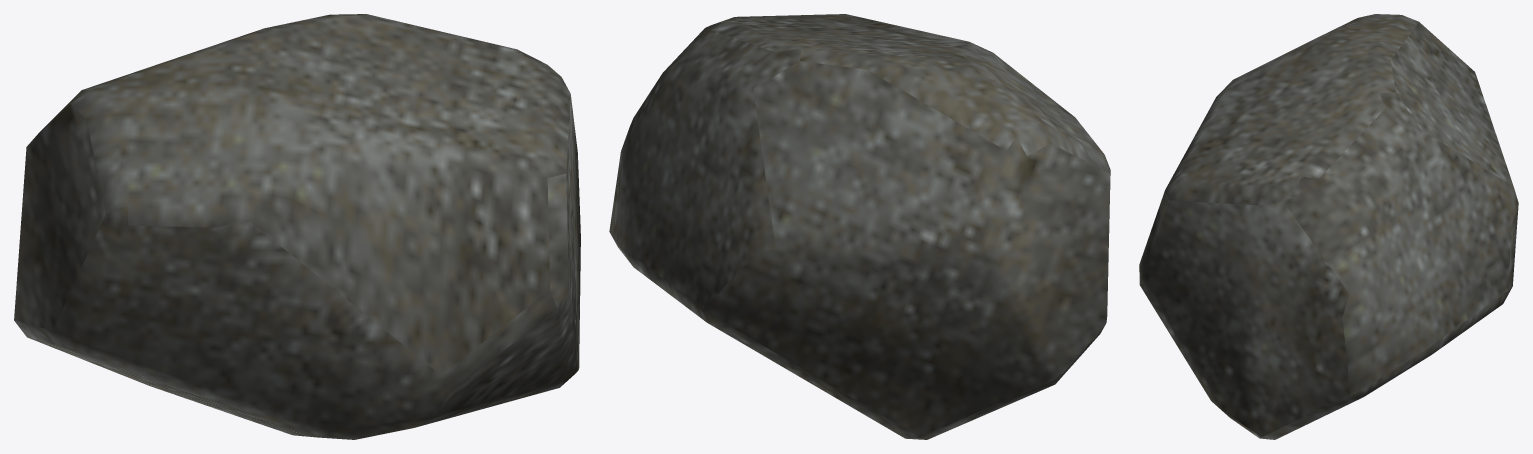
The model's file is rock3.fbx.
The picture shows the model from 3 angles, left to right: view 1: azimuth 30°, elevation 25°; view 2: azimuth 150°, elevation 25°; view 3: azimuth 270°, elevation 25°; orthographic projection. The views are drawn at different scales.
Visible parts, largest first — view 1: Sphere.001; view 2: Sphere.001; view 3: Sphere.001.
Boxes of the visible parts, x1=… form: Sphere.001: x1=14, y1=14, x2=580, y2=439; Sphere.001: x1=609, y1=14, x2=1110, y2=439; Sphere.001: x1=1139, y1=14, x2=1518, y2=439.
Bounding box in the file's own units: 256 × 181 × 194.
